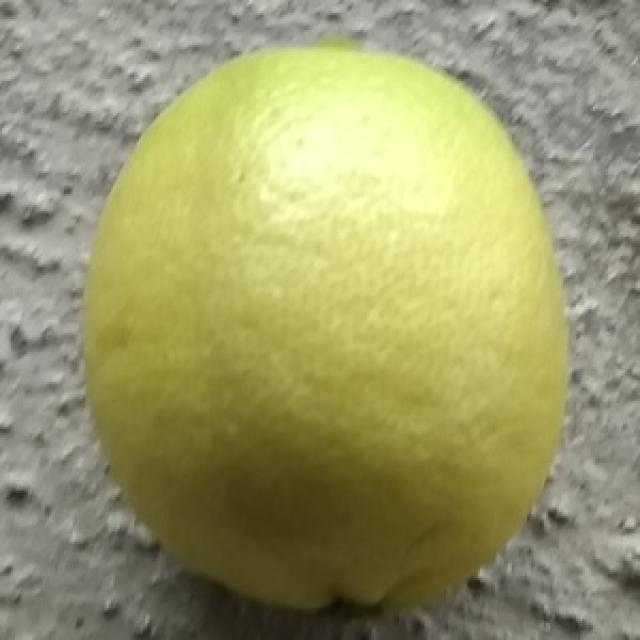Lemon: (78, 26, 572, 618)
